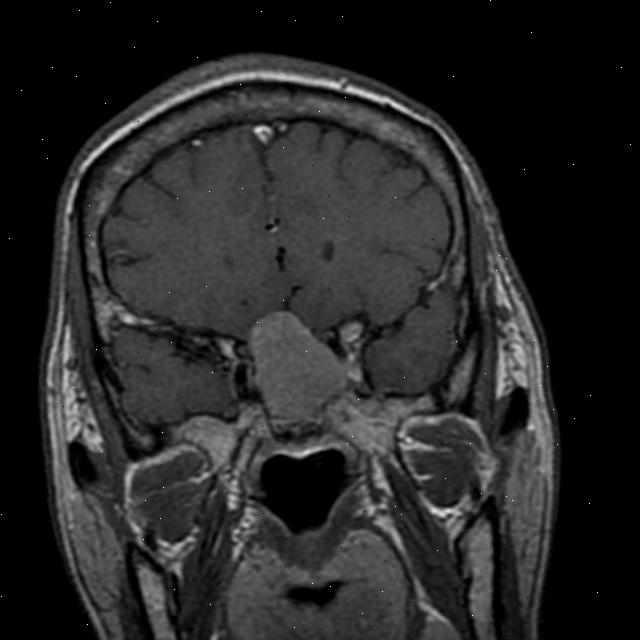Pituitary: (241, 301, 356, 435)
